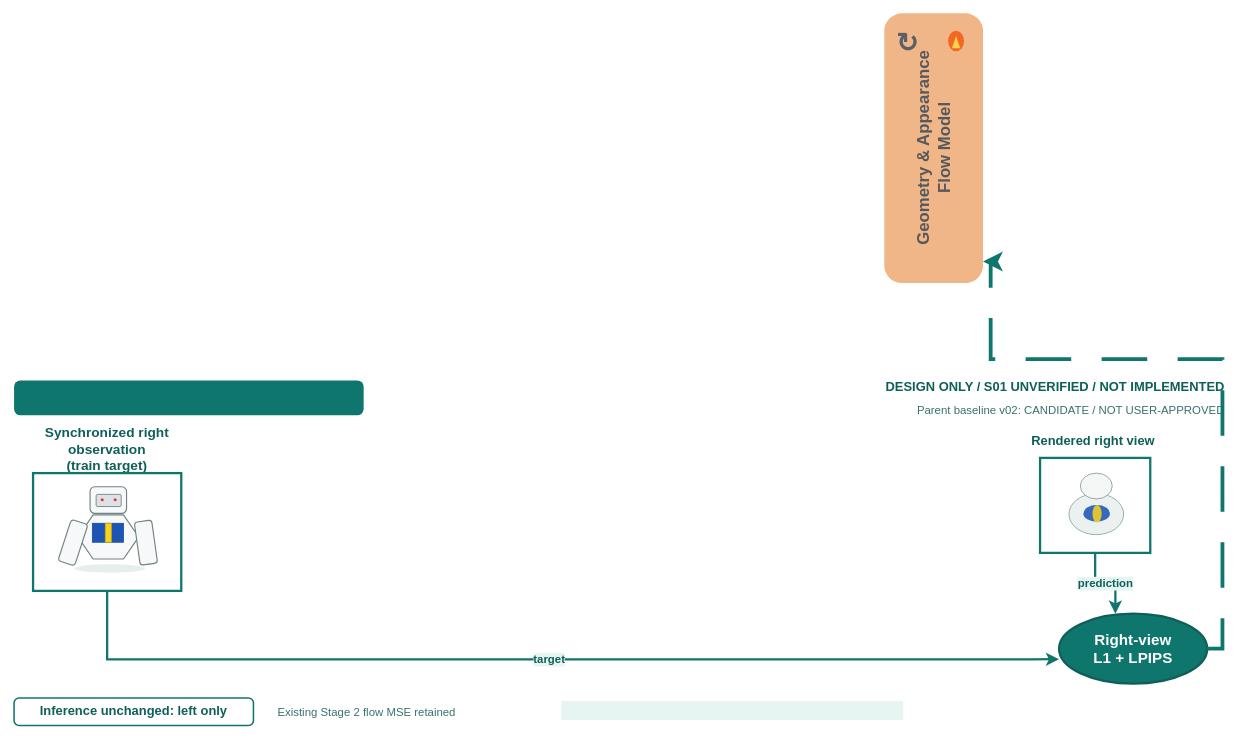
Some shapes in this 1246 by 739 pixel diagram are drawn without their labels. The shapes that lost their labels are listed below. From the top down, each one's centre as x and y in pixels, then its label:
At (188,397): "TRAIN ONLY - PROPOSED / PENDING REVIEW".
At (732,710): "BACKWARD ONLY - gradient stops at Stage 2".
